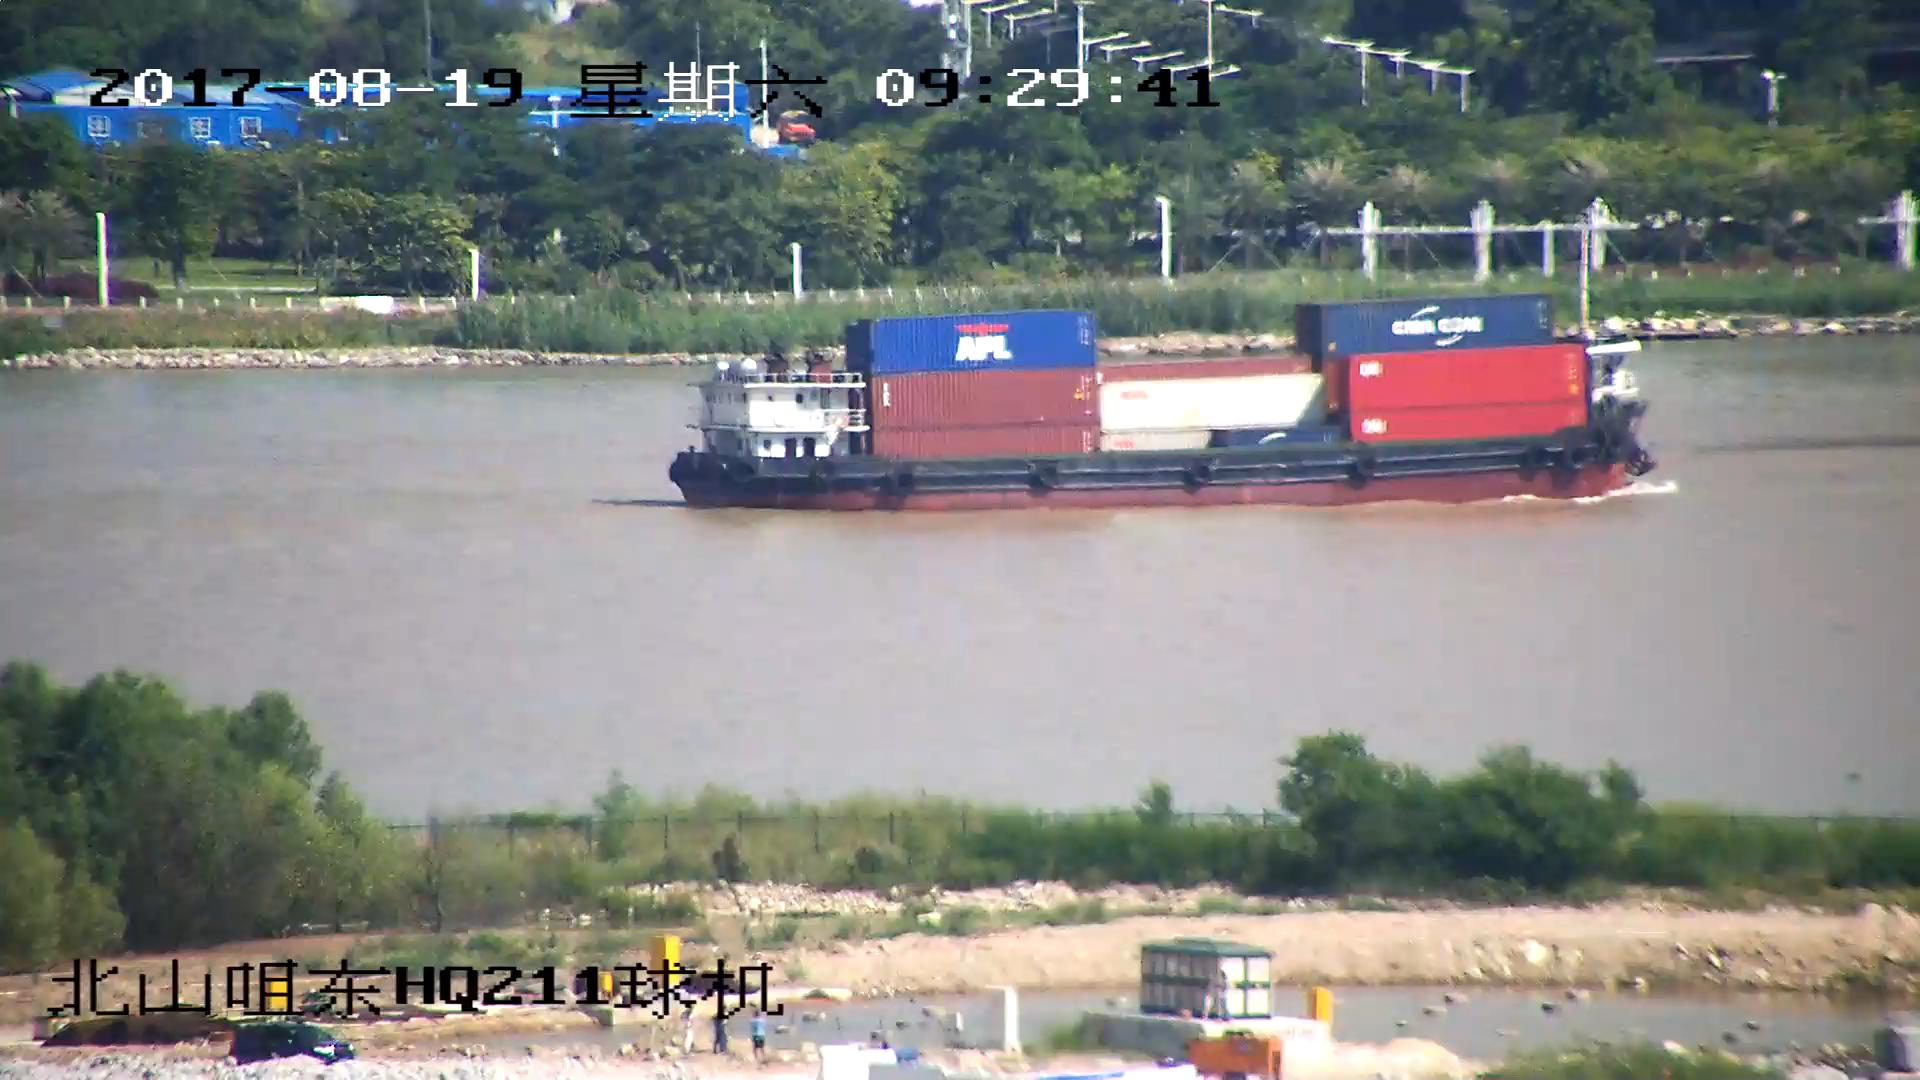container ship: (671, 226, 1671, 510)
